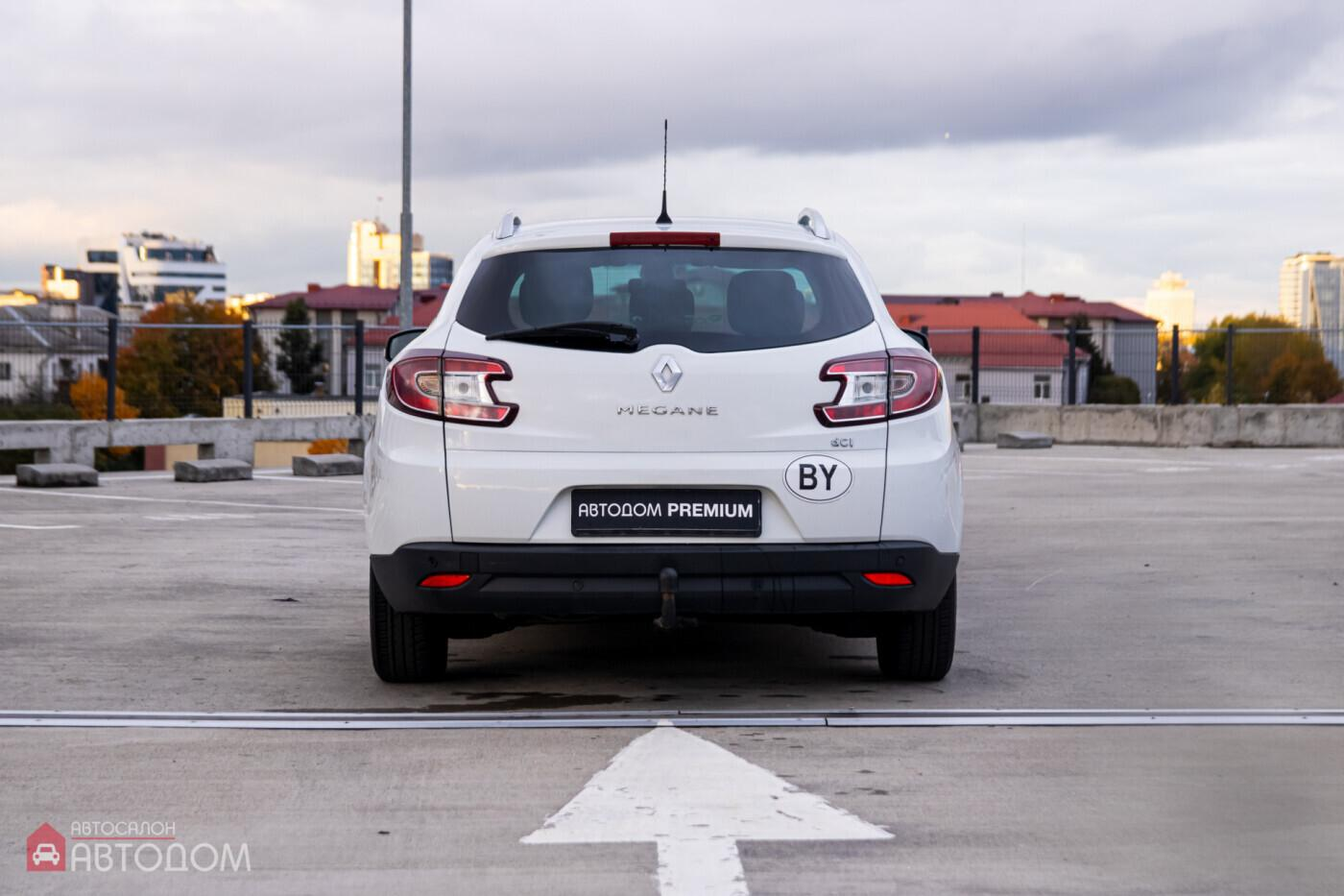Megane_2012-2014: (360, 218, 976, 679)
